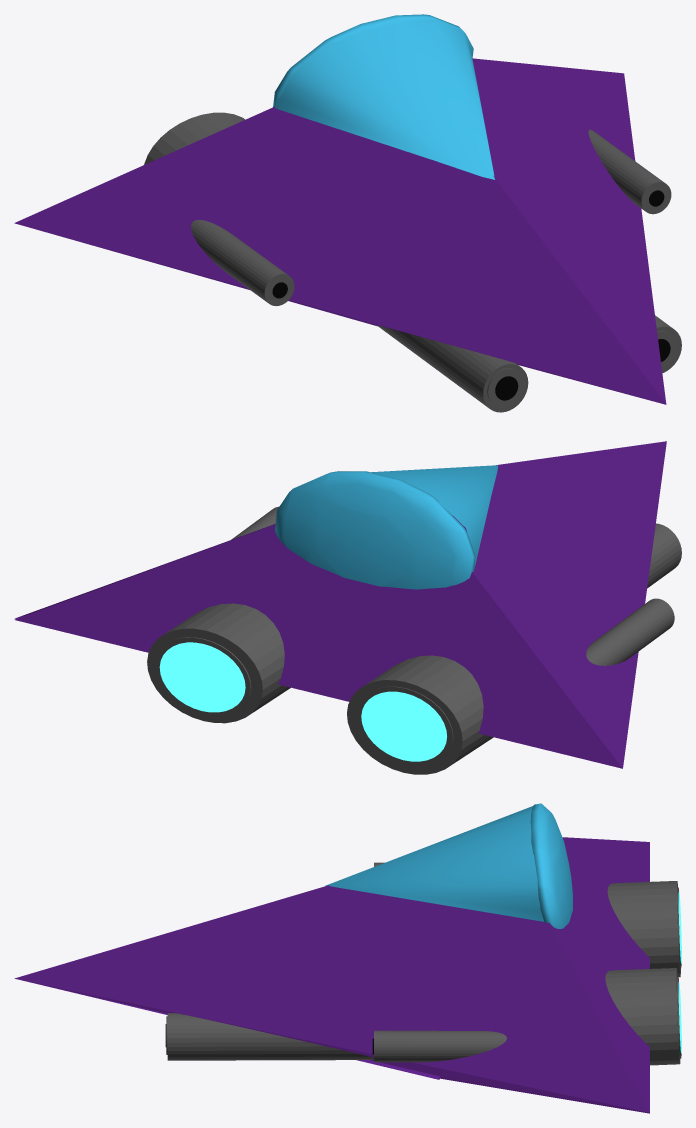
Rendered from nave morada.fbx.
The picture shows the model from 3 angles, top to bottom: view 1: azimuth 30°, elevation 25°; view 2: azimuth 150°, elevation 25°; view 3: azimuth 270°, elevation 25°; orthographic projection. The views are drawn at different scales.
Parts seen in each view (by area): view 1: Plane.001, Cone, Cylinder.005, Cylinder.002, Cylinder.003, Cylinder, Mball, Cylinder.007; view 2: Plane.001, Mball, Cylinder.001, Cylinder, Cylinder.012, Cylinder.013, Cone, Cylinder.002, Cylinder.014, Cylinder.015, Cylinder.005; view 3: Plane.001, Cone, Cylinder.004, Cylinder.001, Cylinder, Mball, Cylinder.003.
Part boxes in pixels (x1,y1,x2,y2): Plane.001: (14, 58, 666, 404); Cone: (275, 21, 494, 179); Cylinder.005: (376, 325, 528, 412); Cylinder.002: (191, 220, 294, 306); Cylinder.003: (588, 129, 671, 214); Cylinder: (144, 112, 245, 164); Mball: (273, 14, 473, 109); Cylinder.007: (487, 368, 524, 407); Plane.001: (14, 441, 666, 768); Mball: (275, 471, 475, 589); Cylinder.001: (147, 603, 290, 723); Cylinder: (347, 655, 493, 774); Cylinder.012: (159, 642, 245, 712); Cylinder.013: (361, 691, 446, 761); Cone: (371, 465, 498, 571); Cylinder.002: (586, 598, 674, 665); Cylinder.014: (153, 637, 251, 716); Cylinder.015: (356, 686, 453, 765); Cylinder.005: (647, 523, 681, 588); Plane.001: (14, 837, 649, 1113); Cone: (325, 806, 544, 921); Cylinder.004: (167, 1013, 373, 1060); Cylinder.001: (605, 968, 680, 1065); Cylinder: (607, 881, 680, 977); Mball: (530, 803, 572, 928); Cylinder.003: (374, 1030, 506, 1062).
Bounding box in the file's own units: 6.01 × 2.68 × 6.24.
